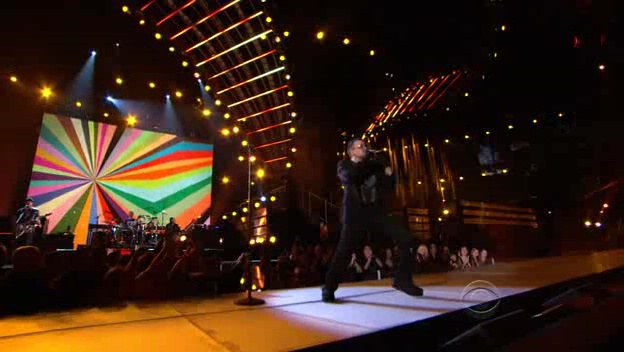person: (333, 137, 397, 250), (330, 137, 394, 250), (336, 137, 400, 250), (333, 134, 397, 247), (333, 140, 397, 253)
target_negative: (474, 55, 550, 285), (504, 9, 546, 184), (187, 304, 228, 328), (415, 321, 502, 329), (167, 312, 173, 351), (582, 325, 592, 330)
